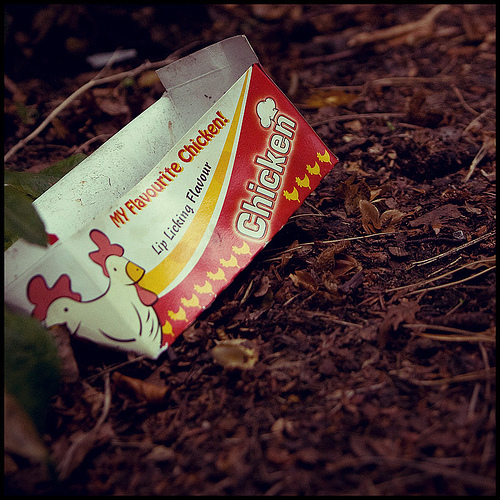litter: (5, 34, 340, 364)
